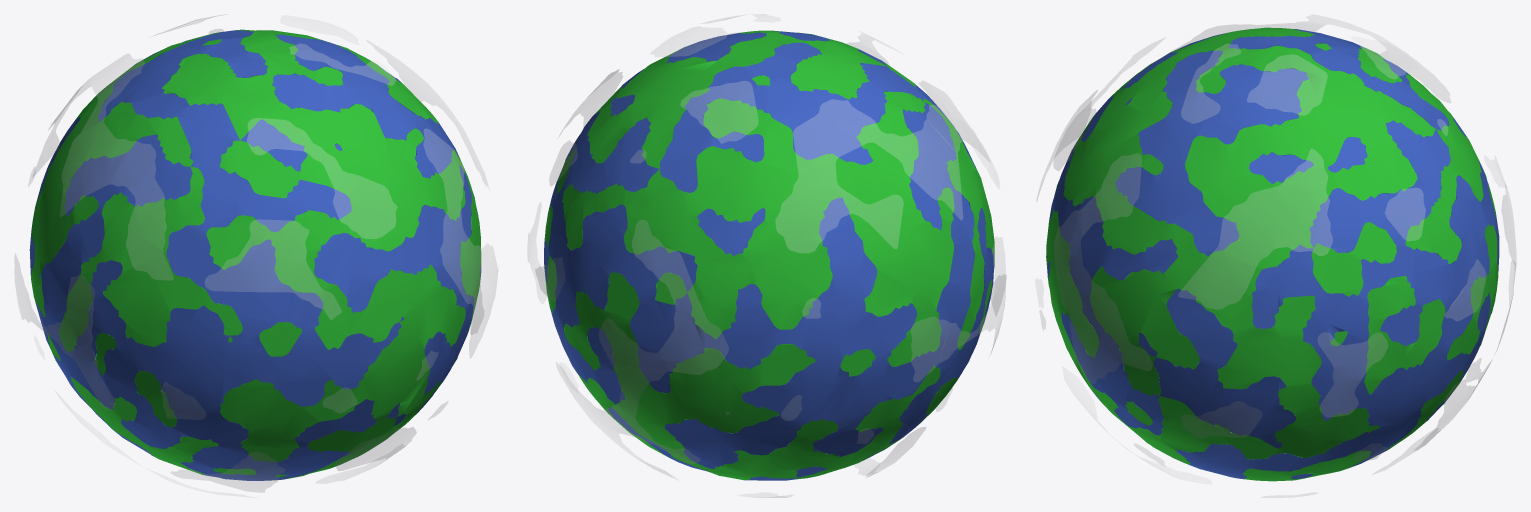
Rendered from Planet1.gltf.
The picture shows the model from 3 angles, left to right: view 1: azimuth 30°, elevation 25°; view 2: azimuth 150°, elevation 25°; view 3: azimuth 270°, elevation 25°; orthographic projection.
Visible parts, largest first — view 1: Icosphere.002; view 2: Icosphere.002; view 3: Icosphere.002.
Boxes of the visible parts, left/top/right/bottom form: Icosphere.002: left=14, top=14, right=497, bottom=497; Icosphere.002: left=527, top=14, right=1006, bottom=497; Icosphere.002: left=1035, top=14, right=1516, bottom=497.
Size of the model in its own units: 2.13 by 2.11 by 2.12.
